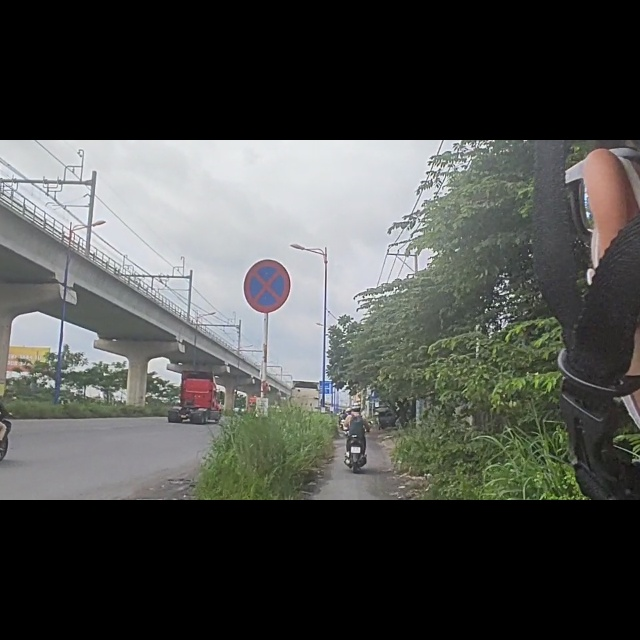bien_cam: (239, 207, 295, 316)
